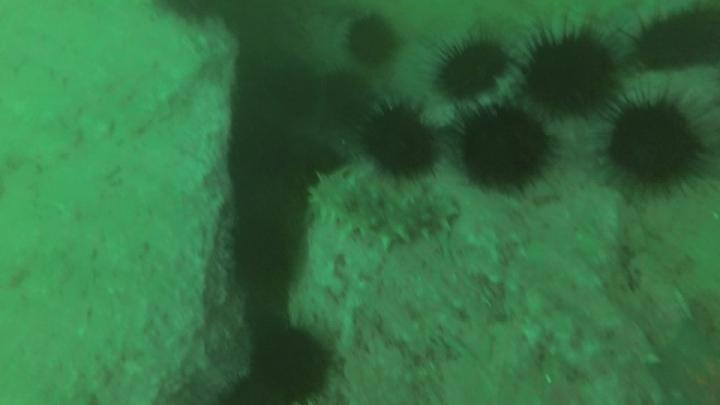echinus: (461, 110, 550, 187), (613, 103, 694, 180), (532, 40, 613, 113), (640, 12, 720, 71), (254, 333, 330, 395), (364, 111, 439, 172), (238, 227, 295, 290), (441, 44, 507, 98), (321, 72, 373, 120), (347, 17, 395, 63)
holothurian: (309, 173, 460, 249)
starfish: (656, 321, 720, 405)
